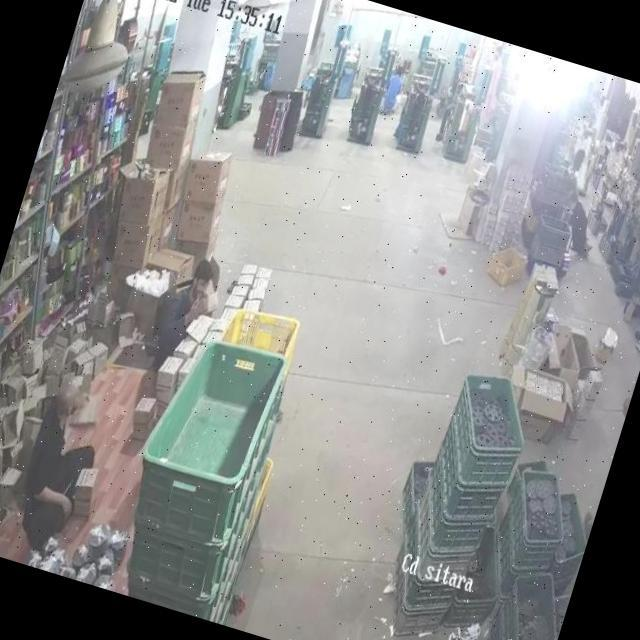person: (548, 144, 618, 258), (375, 64, 409, 120)
